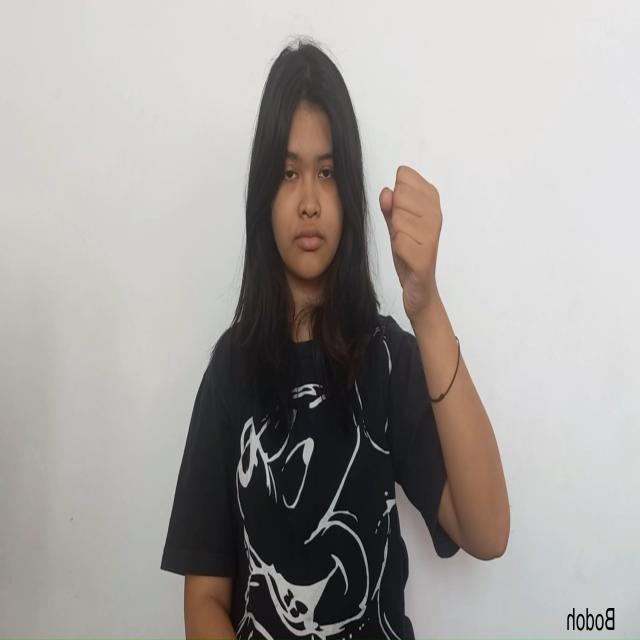Bodoh -BISINDO-: (378, 161, 444, 329)
